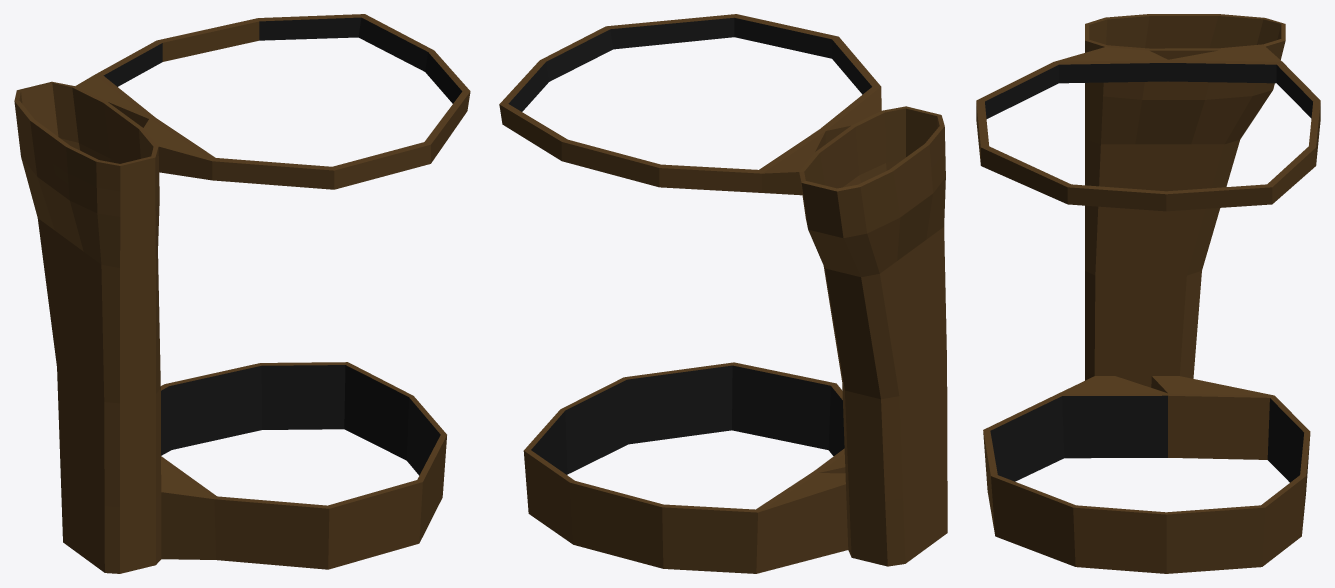
File: Revolver Holster02.fbx
3 renders of one model, left to right at view 1: azimuth 30°, elevation 25°; view 2: azimuth 150°, elevation 25°; view 3: azimuth 270°, elevation 25°, orthographic. The views are drawn at different scales.
Parts seen in each view (by area): view 1: Revolver Holster.002; view 2: Revolver Holster.002; view 3: Revolver Holster.002.
Part boxes in pixels (x1,y1,x2,y2): Revolver Holster.002: (14,14,470,573); Revolver Holster.002: (499,14,947,573); Revolver Holster.002: (976,14,1320,573).
Size of the model in its own units: 0.2573 by 0.2699 by 0.2101.
